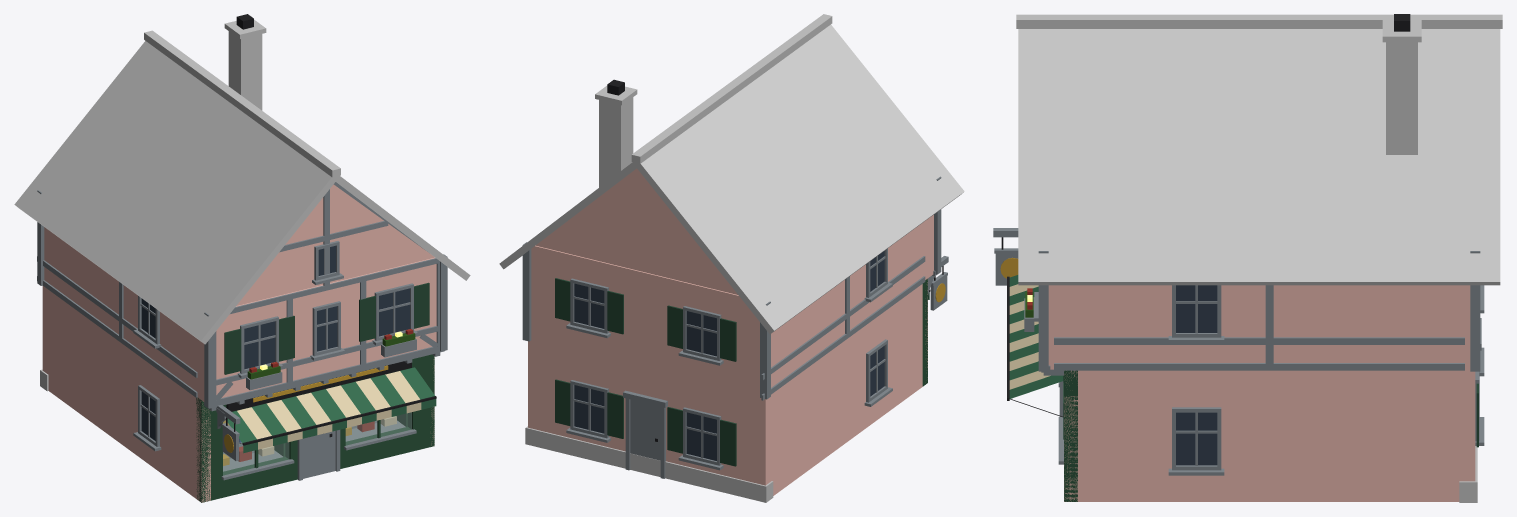
The model's file is shop_house.gltf.
3 renders of one model, left to right at view 1: azimuth 30°, elevation 25°; view 2: azimuth 150°, elevation 25°; view 3: azimuth 270°, elevation 25°, orthographic. The views are drawn at different scales.
Parts seen in each view (by area): view 1: shop_house; view 2: shop_house; view 3: shop_house.
Boxes of the visible parts, x1,y1,x2,y2 form: shop_house: [14, 14, 470, 502]; shop_house: [499, 14, 964, 502]; shop_house: [993, 14, 1502, 502].
Size of the model in its own units: 8.8 by 10.82 by 11.15.
